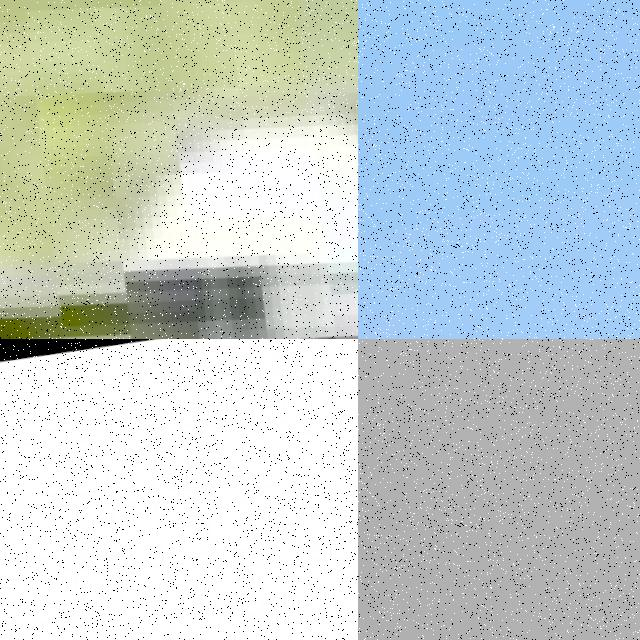0: (0, 0, 358, 339)
drone: (0, 339, 358, 640)
